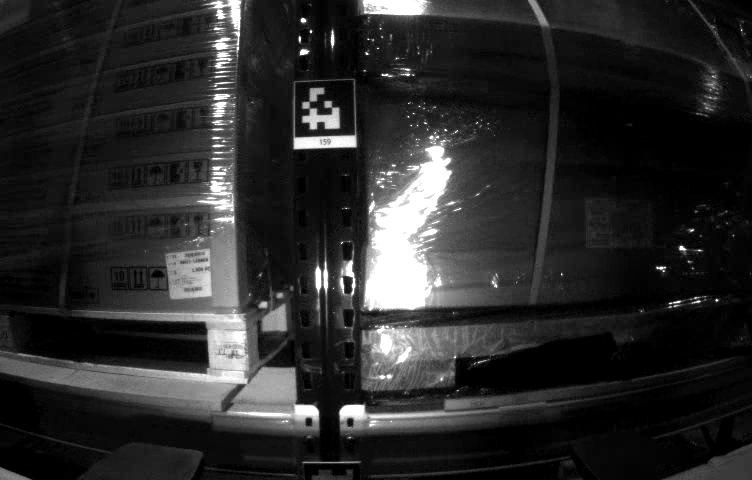True Barcode: (163, 247, 217, 300)
